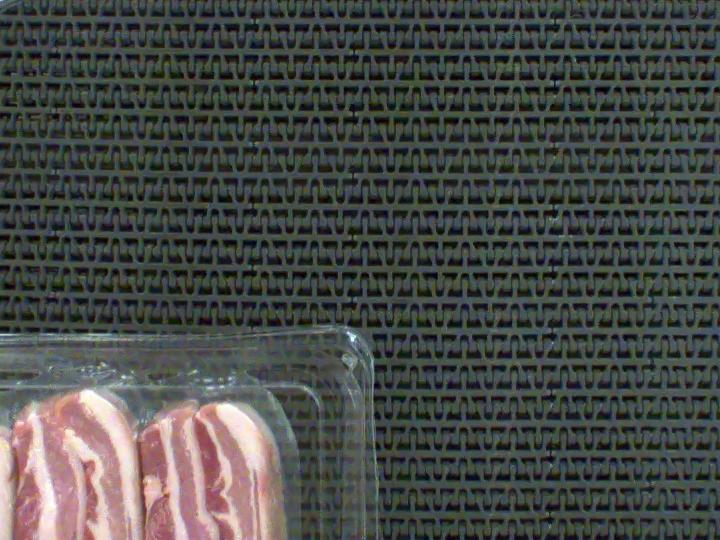unsealed: (0, 348, 305, 540)
